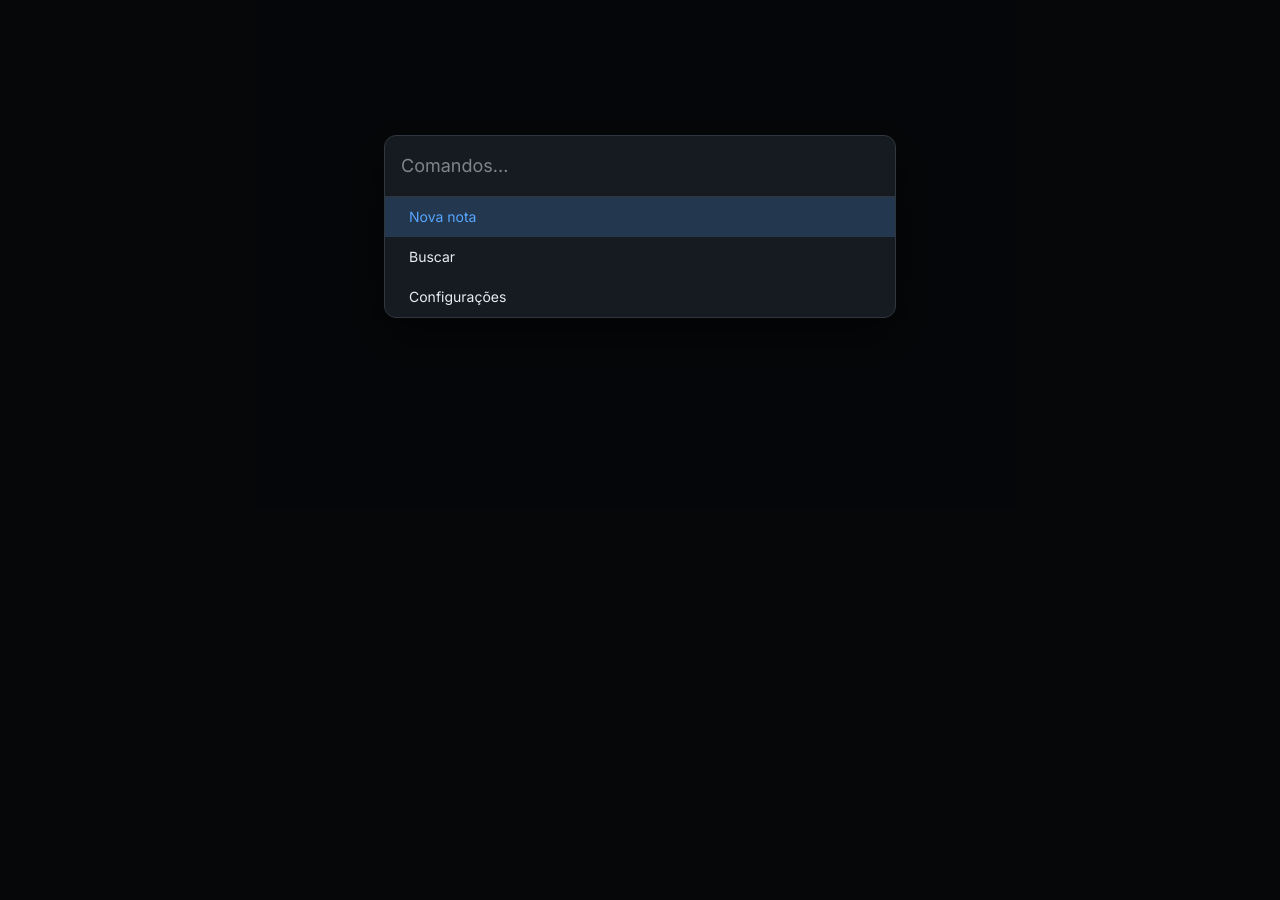
Scenario: CommandPalette › filtra comandos por texto digitado
The width and height of the screenshot is (1280, 900).
Type "Busca" into the field with placeholder "Comandos..." at [640, 166], box [385, 136, 895, 197]
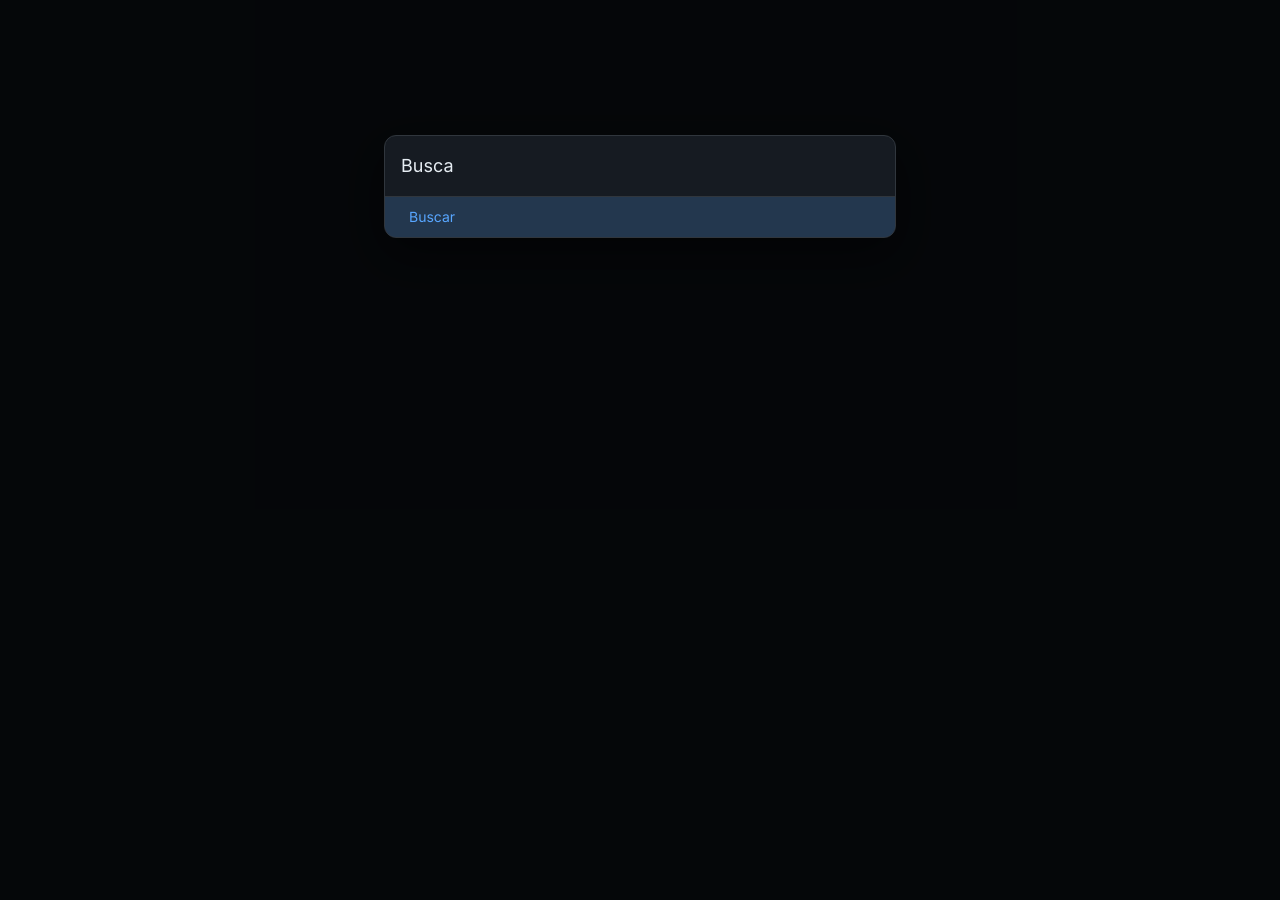
Expected: the option "Buscar" is shown, [385, 197, 895, 237]
Now the option "Nova nota" is gone
